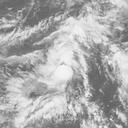cyclone: (25, 40, 83, 95)
